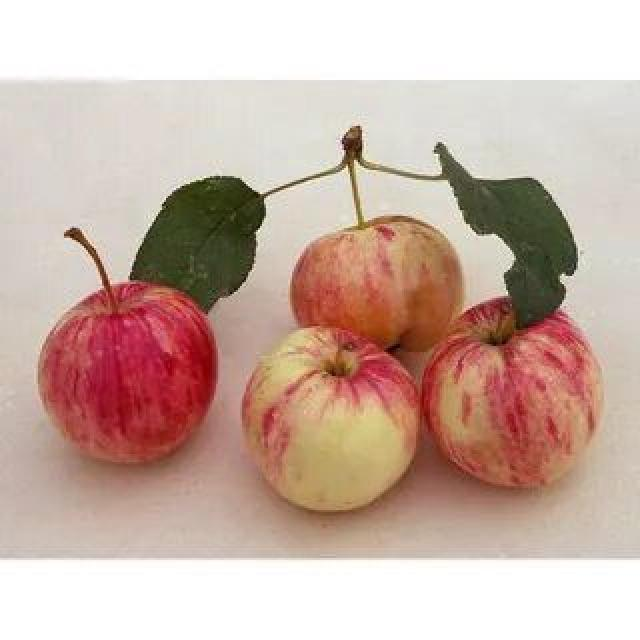Fresh Apple: (25, 285, 223, 467), (425, 298, 602, 470), (248, 328, 410, 498), (297, 213, 460, 350)
